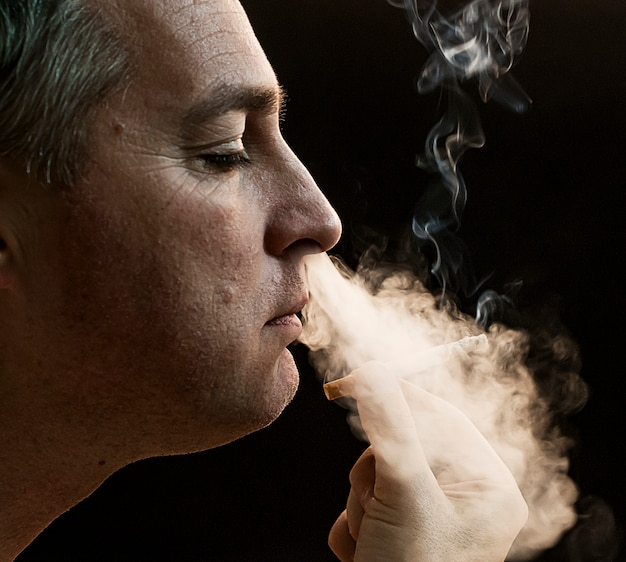cigarette: (319, 331, 493, 398)
